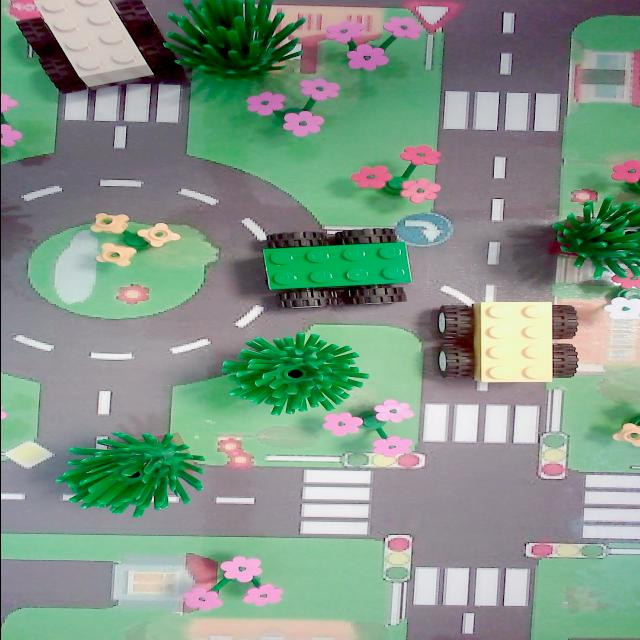Car: (250, 221, 420, 317), (422, 296, 588, 390)
Flower: (346, 138, 452, 208), (178, 551, 286, 619), (324, 396, 420, 462), (84, 206, 182, 268)
Tree: (11, 0, 190, 98), (48, 428, 208, 514), (158, 0, 302, 87), (217, 330, 367, 412), (530, 202, 640, 290)
